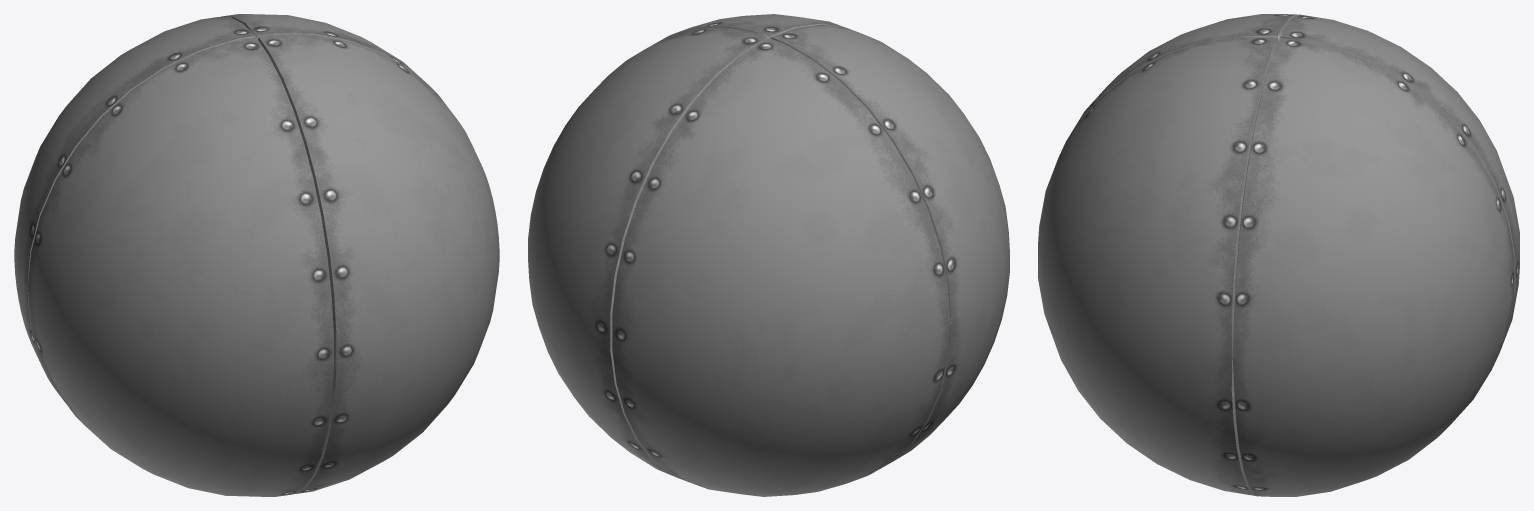
File: Gyro Pinball new.fbx
3 renders of one model, left to right at view 1: azimuth 30°, elevation 25°; view 2: azimuth 150°, elevation 25°; view 3: azimuth 270°, elevation 25°, orthographic.
Parts seen in each view (by area): view 1: Gyro Pinball new; view 2: Gyro Pinball new; view 3: Gyro Pinball new.
Part boxes in pixels (left/top/right/bottom): Gyro Pinball new: left=14, top=14, right=499, bottom=496; Gyro Pinball new: left=528, top=14, right=1009, bottom=496; Gyro Pinball new: left=1038, top=14, right=1519, bottom=496.
Bounding box in the file's own units: 0.4429 × 0.4414 × 0.441.
Materials: 1 (1 with a texture image).
